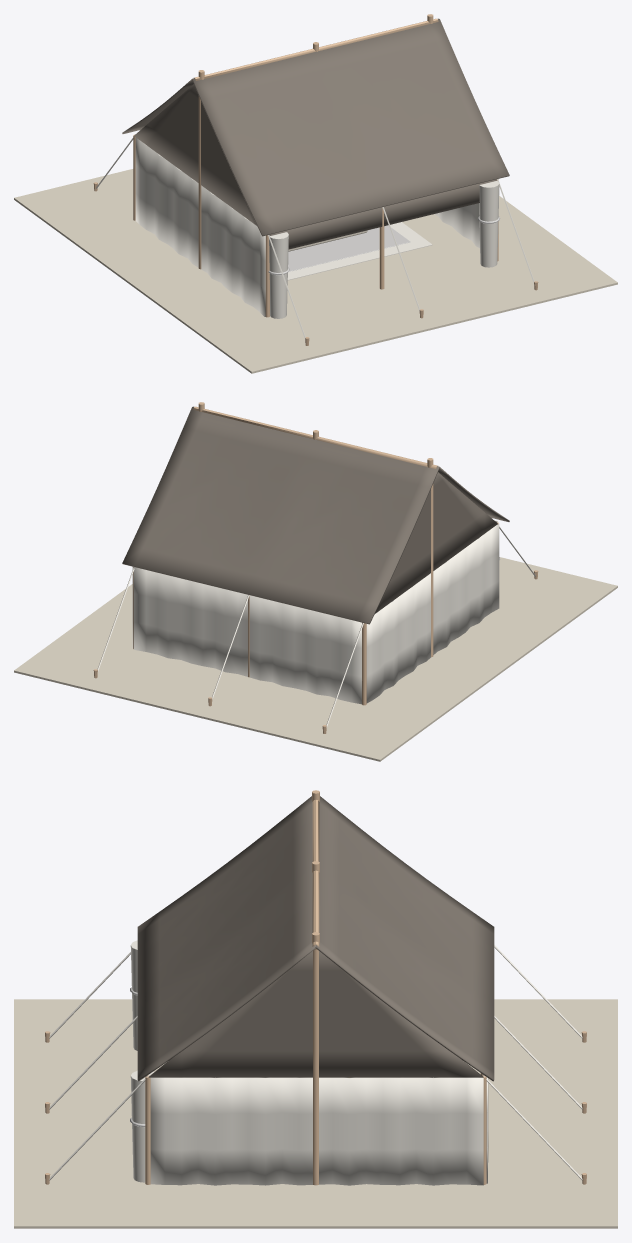
File: davids-tent.glb
3 renders of one model, top to bottom at view 1: azimuth 30°, elevation 25°; view 2: azimuth 150°, elevation 25°; view 3: azimuth 270°, elevation 25°, orthographic. The views are drawn at different scales.
Visible parts, largest first — view 1: tent, ground, poles, ropes; view 2: tent, ground, poles, ropes; view 3: tent, ground, poles, ropes.
Part boxes in pixels (box(x1,y1,x2,y2)): tent: box(122, 18, 509, 318); ground: box(14, 169, 617, 373); poles: box(133, 14, 498, 317); ropes: box(93, 138, 538, 345); tent: box(122, 406, 509, 704); ground: box(14, 557, 617, 761); poles: box(133, 402, 498, 705); ropes: box(93, 526, 538, 733); tent: box(130, 796, 494, 1185); ground: box(14, 999, 617, 1228); poles: box(145, 790, 486, 1185); ropes: box(45, 945, 586, 1184).
Bounding box in the file's own units: 16 × 8.4 × 18.
